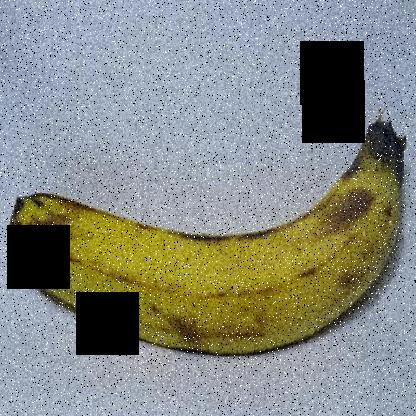ripe: (3, 116, 415, 362)
